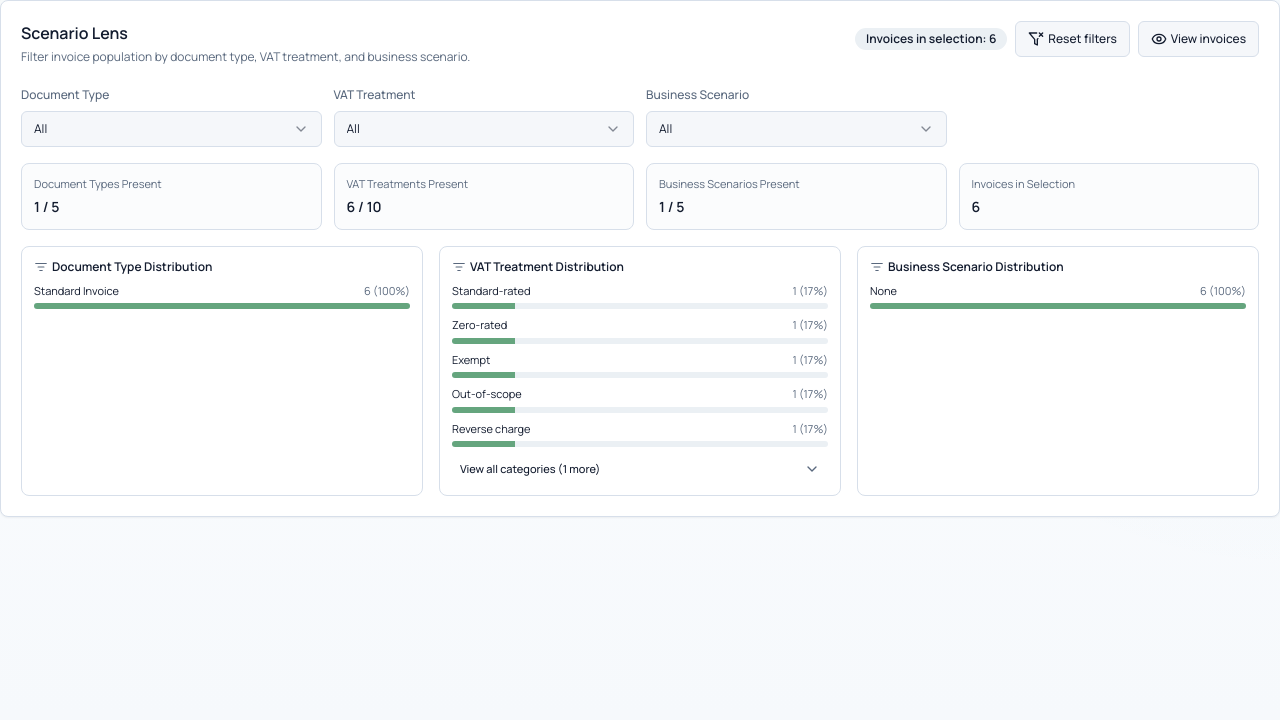
Test: ScenarioLensPanel › expands and collapses distribution categories when many categories are present
Expected: the text "Margin scheme" is not shown
Click the button with aria-label "view all categories for vat treatment distribution" at coordinates (530, 468), box [452,455,828,483]
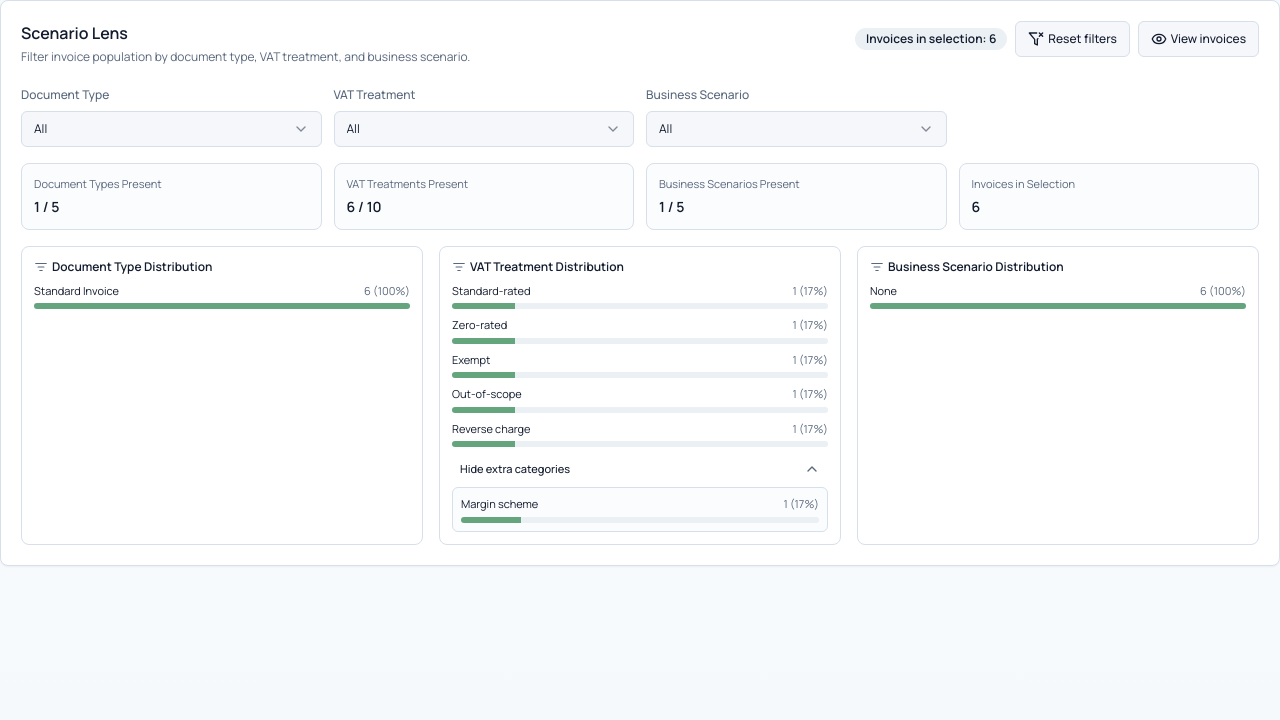
Expected: the text "Margin scheme" is shown, [461,496,538,513]
Click the button with aria-label "hide extra categories for vat treatment distribution" at coordinates (515, 468), box [452,455,828,483]
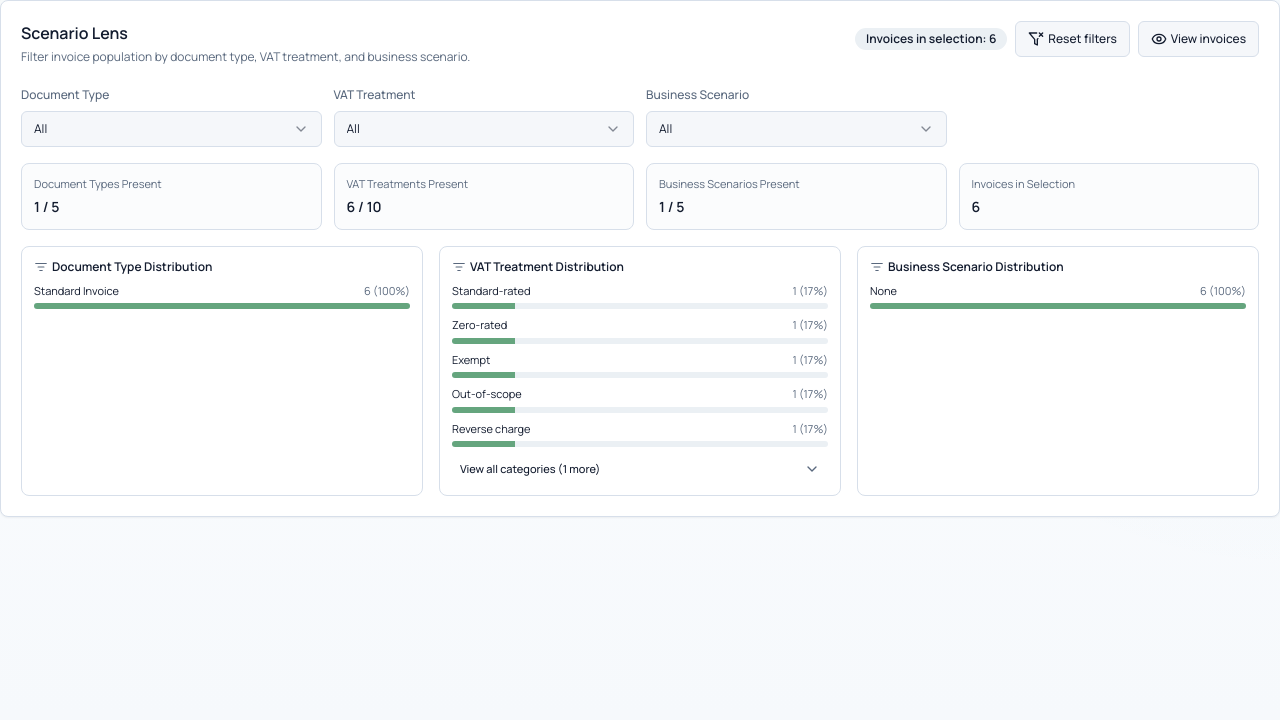
Expected: the text "Margin scheme" is gone
